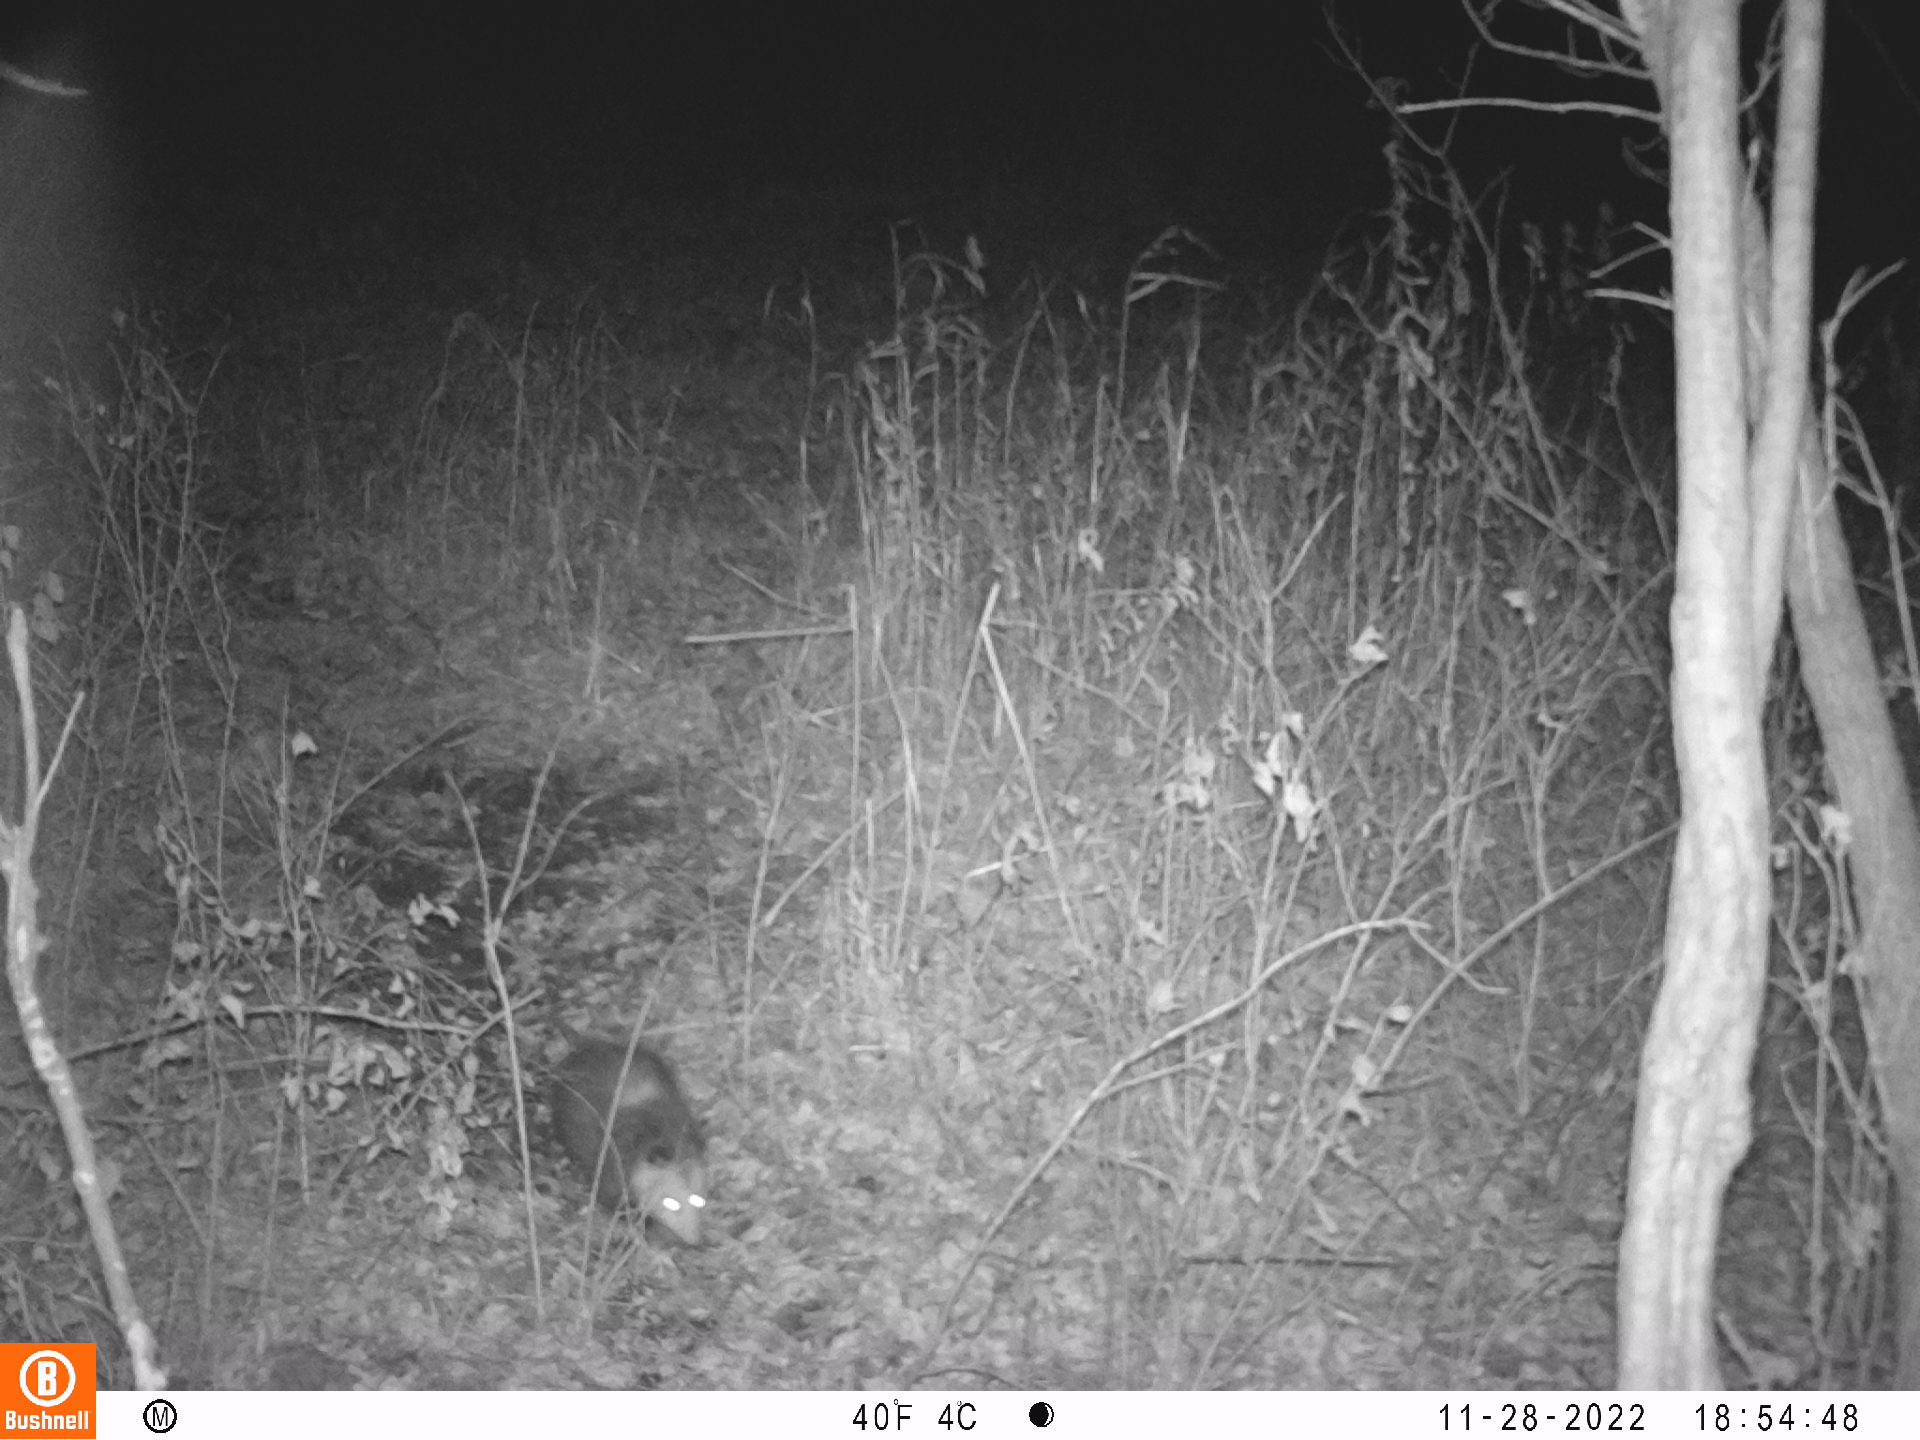Possum: (541, 986, 714, 1246)
